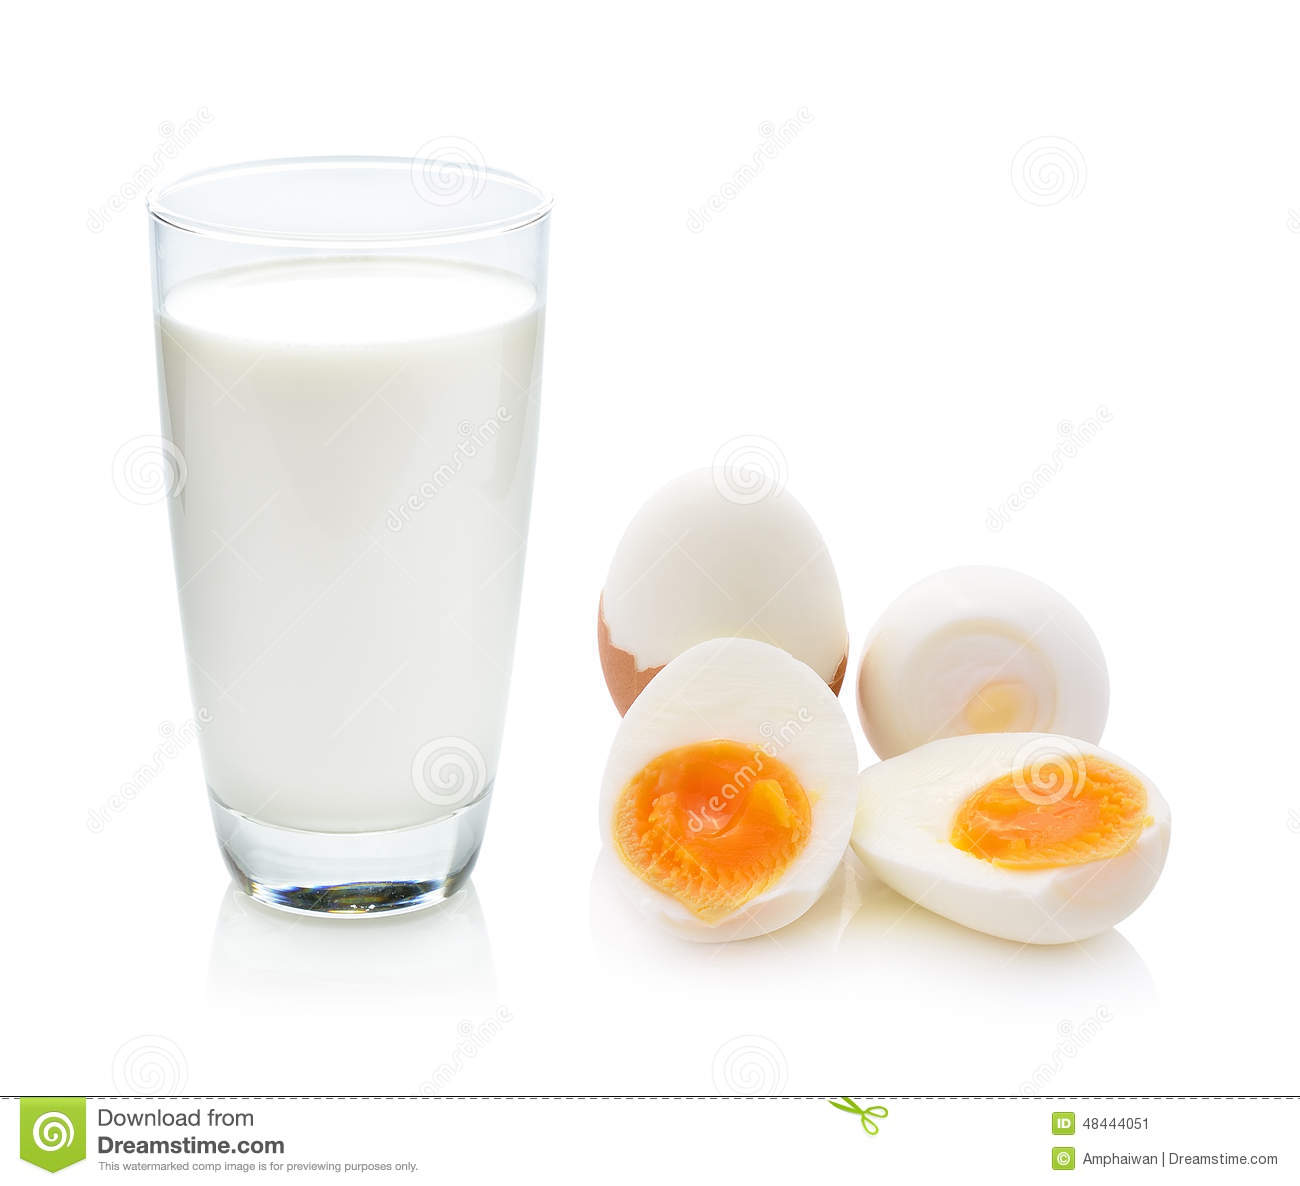glass of milk: (180, 203, 497, 901)
